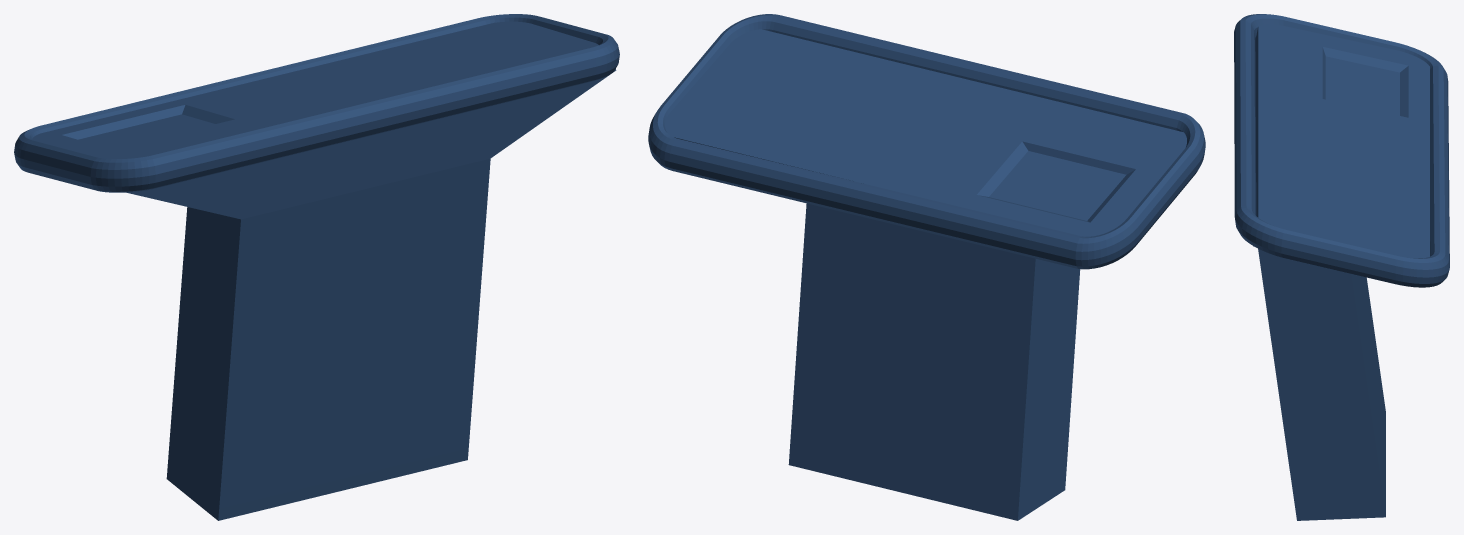
File: Console1.fbx
3 views of the same model, side by side, from view 1: azimuth 30°, elevation 25°; view 2: azimuth 150°, elevation 25°; view 3: azimuth 270°, elevation 25° (orthographic). The views are drawn at different scales.
Parts seen in each view (by area): view 1: Console1-col; view 2: Console1-col; view 3: Console1-col.
Boxes of the visible parts, <box> form: Console1-col: <box>14,14,619,520</box>; Console1-col: <box>648,14,1205,520</box>; Console1-col: <box>1234,14,1449,520</box>.
Size of the model in its own units: 1174 by 878 by 485.
